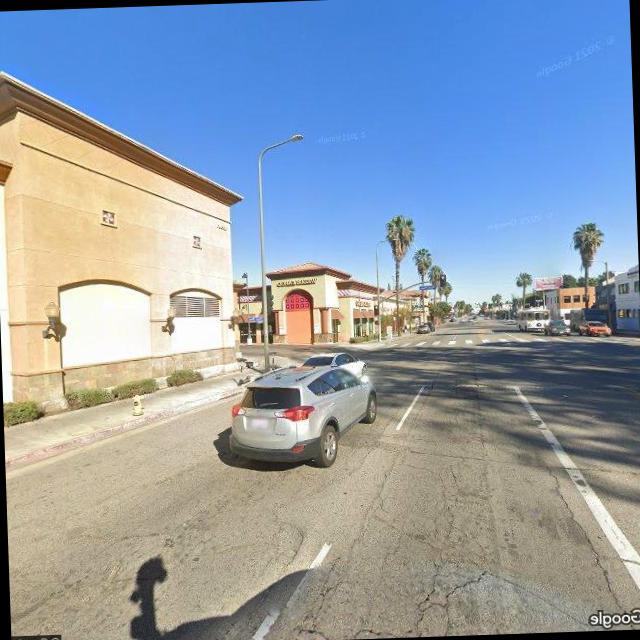crack: (295, 416, 518, 640)
pothole: (545, 462, 630, 612)
